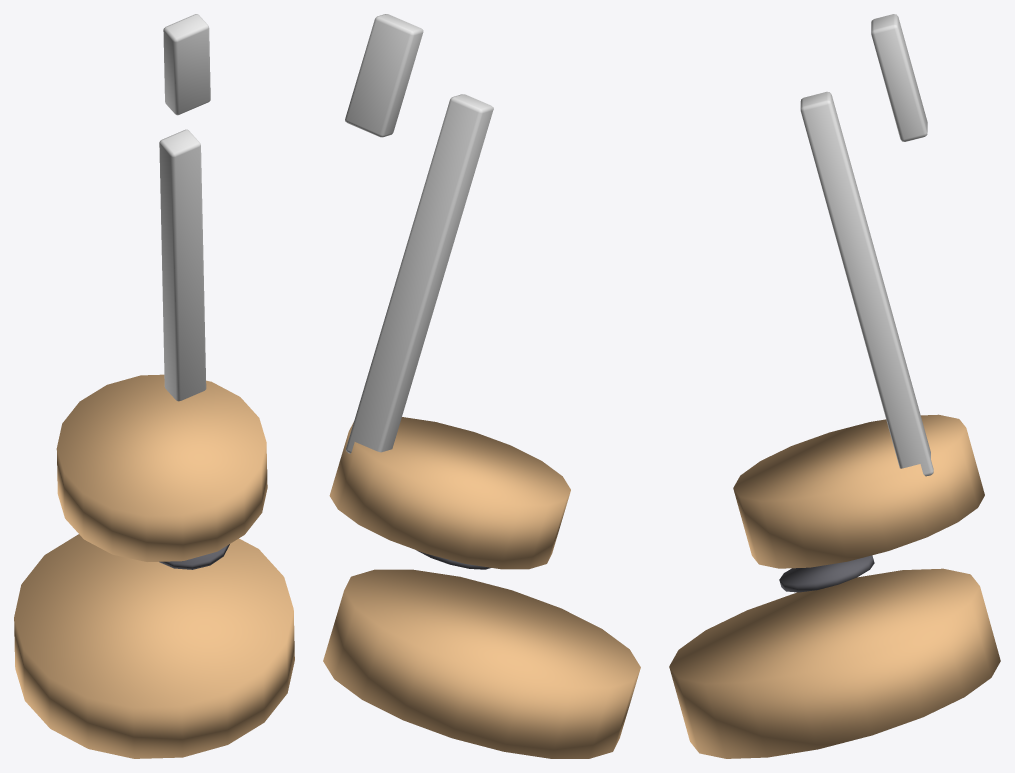
File: Indo_Gitar_Akustik.fbx
3 renders of one model, left to right at view 1: azimuth 30°, elevation 25°; view 2: azimuth 150°, elevation 25°; view 3: azimuth 270°, elevation 25°, orthographic. The views are drawn at different scales.
Visible parts, largest first — view 1: Indo_Gitar_Akustik; view 2: Indo_Gitar_Akustik; view 3: Indo_Gitar_Akustik.
Boxes of the visible parts, x1=… form: Indo_Gitar_Akustik: x1=14, y1=14, x2=294, y2=758; Indo_Gitar_Akustik: x1=323, y1=14, x2=640, y2=758; Indo_Gitar_Akustik: x1=669, y1=14, x2=1000, y2=758.
Bounding box in the file's own units: 40.78 × 104 × 41.23.
